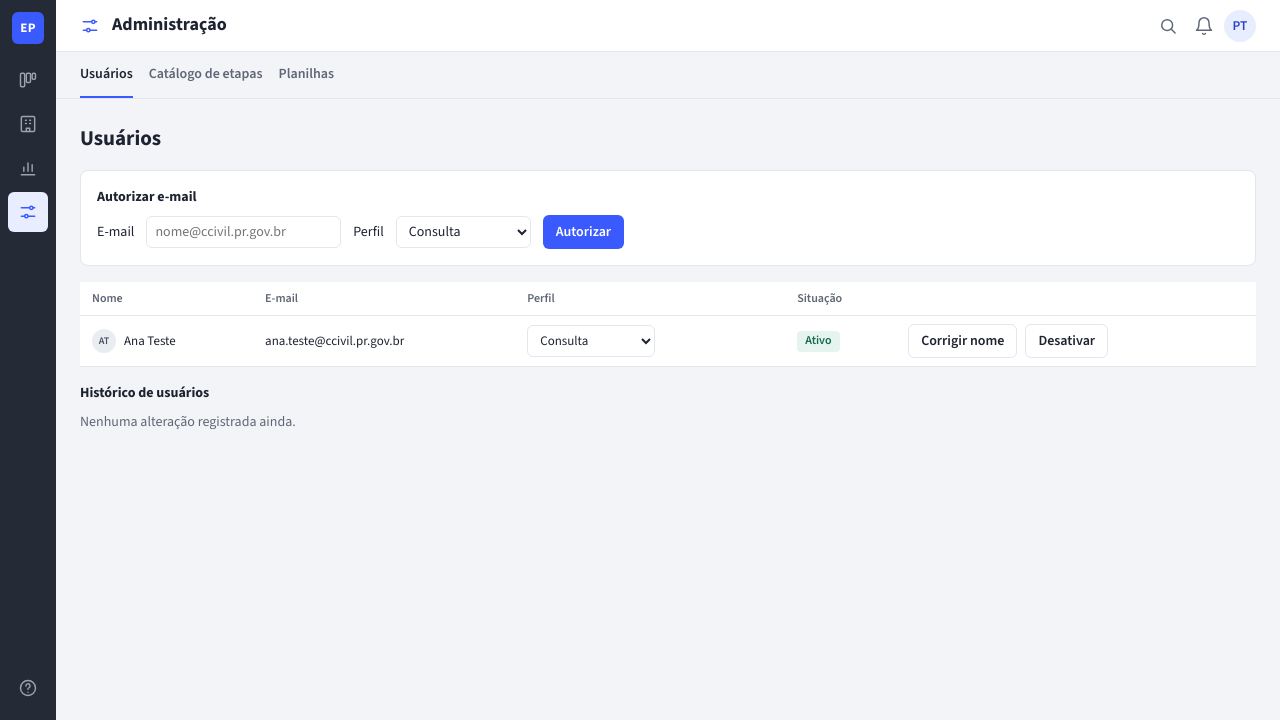
Test: salvar o nome devolve o foco ao botão Corrigir nome
Expected: the table is shown, [80, 282, 1256, 367]
Click the button "Corrigir nome". click: (963, 341)
box: [908, 324, 1017, 358]
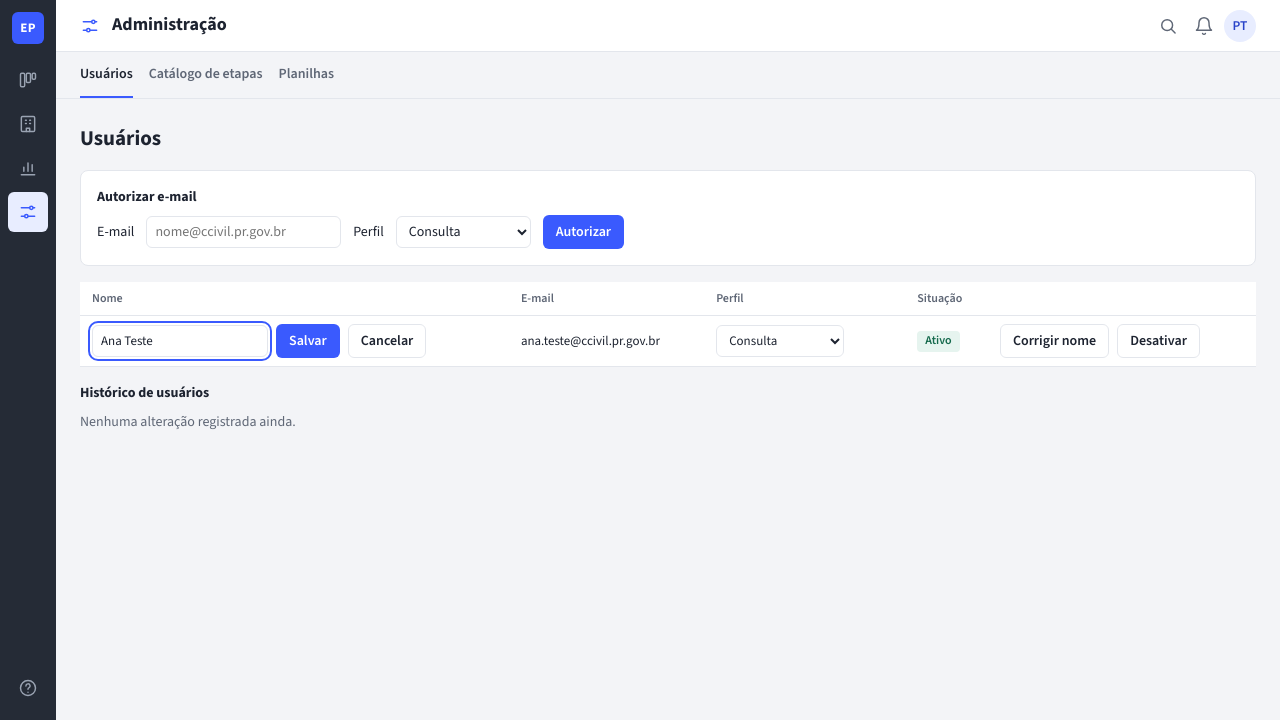
Replace the text in the field named "Nome de ana.teste@ccivil.pr.gov.br" with "Ana Corrigida". click: (180, 341)
box: [92, 325, 268, 357]
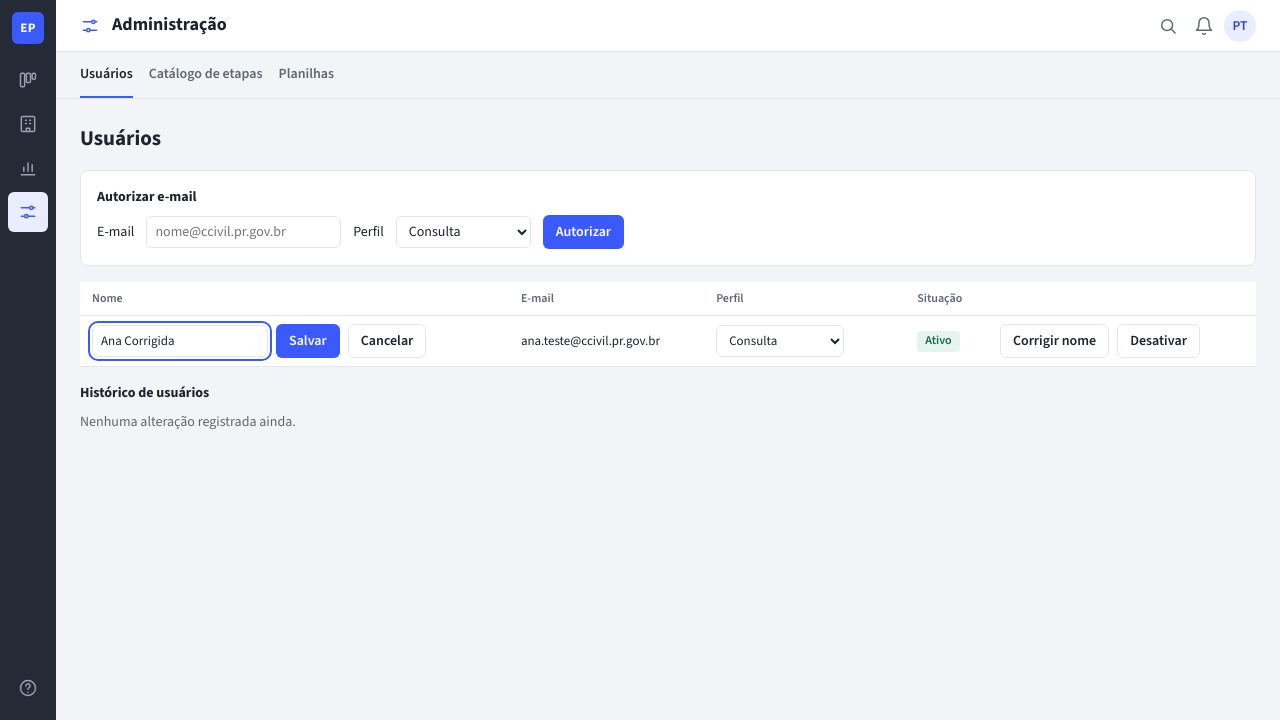
Click the button "Salvar". click: (308, 341)
box: [276, 324, 340, 358]
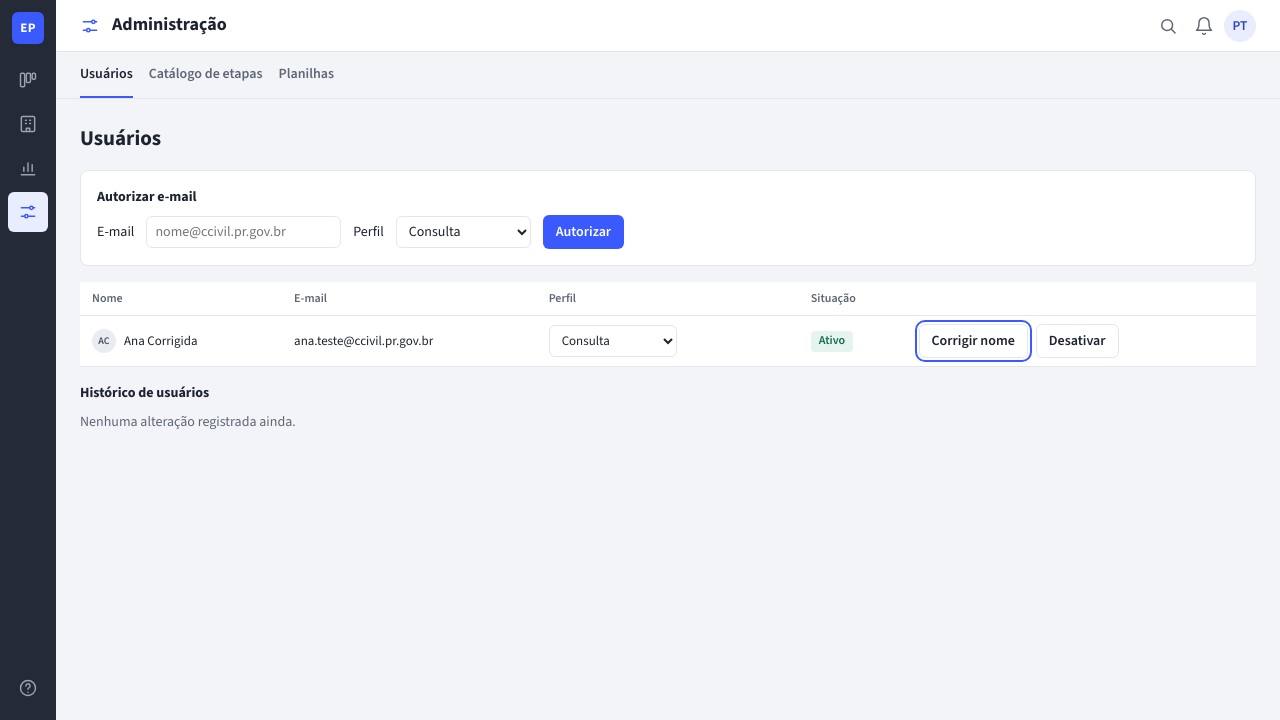
Now the text "Ana Corrigida" is shown, box [124, 332, 198, 350]
